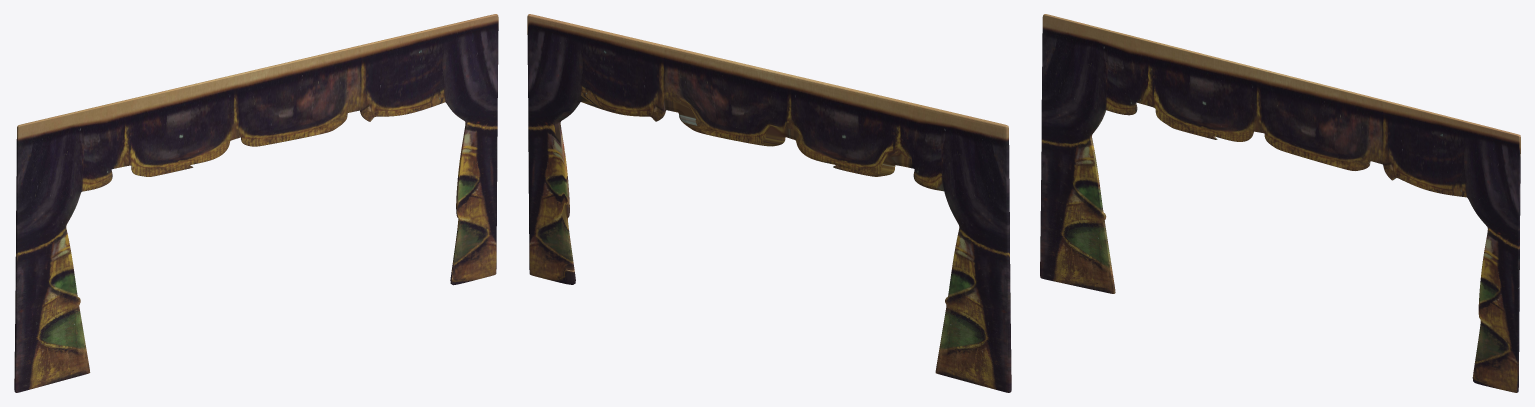
Rendered from Prospekt.fbx.
3 renders of one model, left to right at view 1: azimuth 30°, elevation 25°; view 2: azimuth 150°, elevation 25°; view 3: azimuth 330°, elevation 25°, orthographic.
Visible parts, largest first — view 1: Prospekt; view 2: Prospekt; view 3: Prospekt.
Part boxes in pixels (x1,y1,x2,y2): Prospekt: (14,14,498,392); Prospekt: (527,14,1011,392); Prospekt: (1040,14,1520,392).
Bounding box in the file's own units: 407 × 214 × 3.
